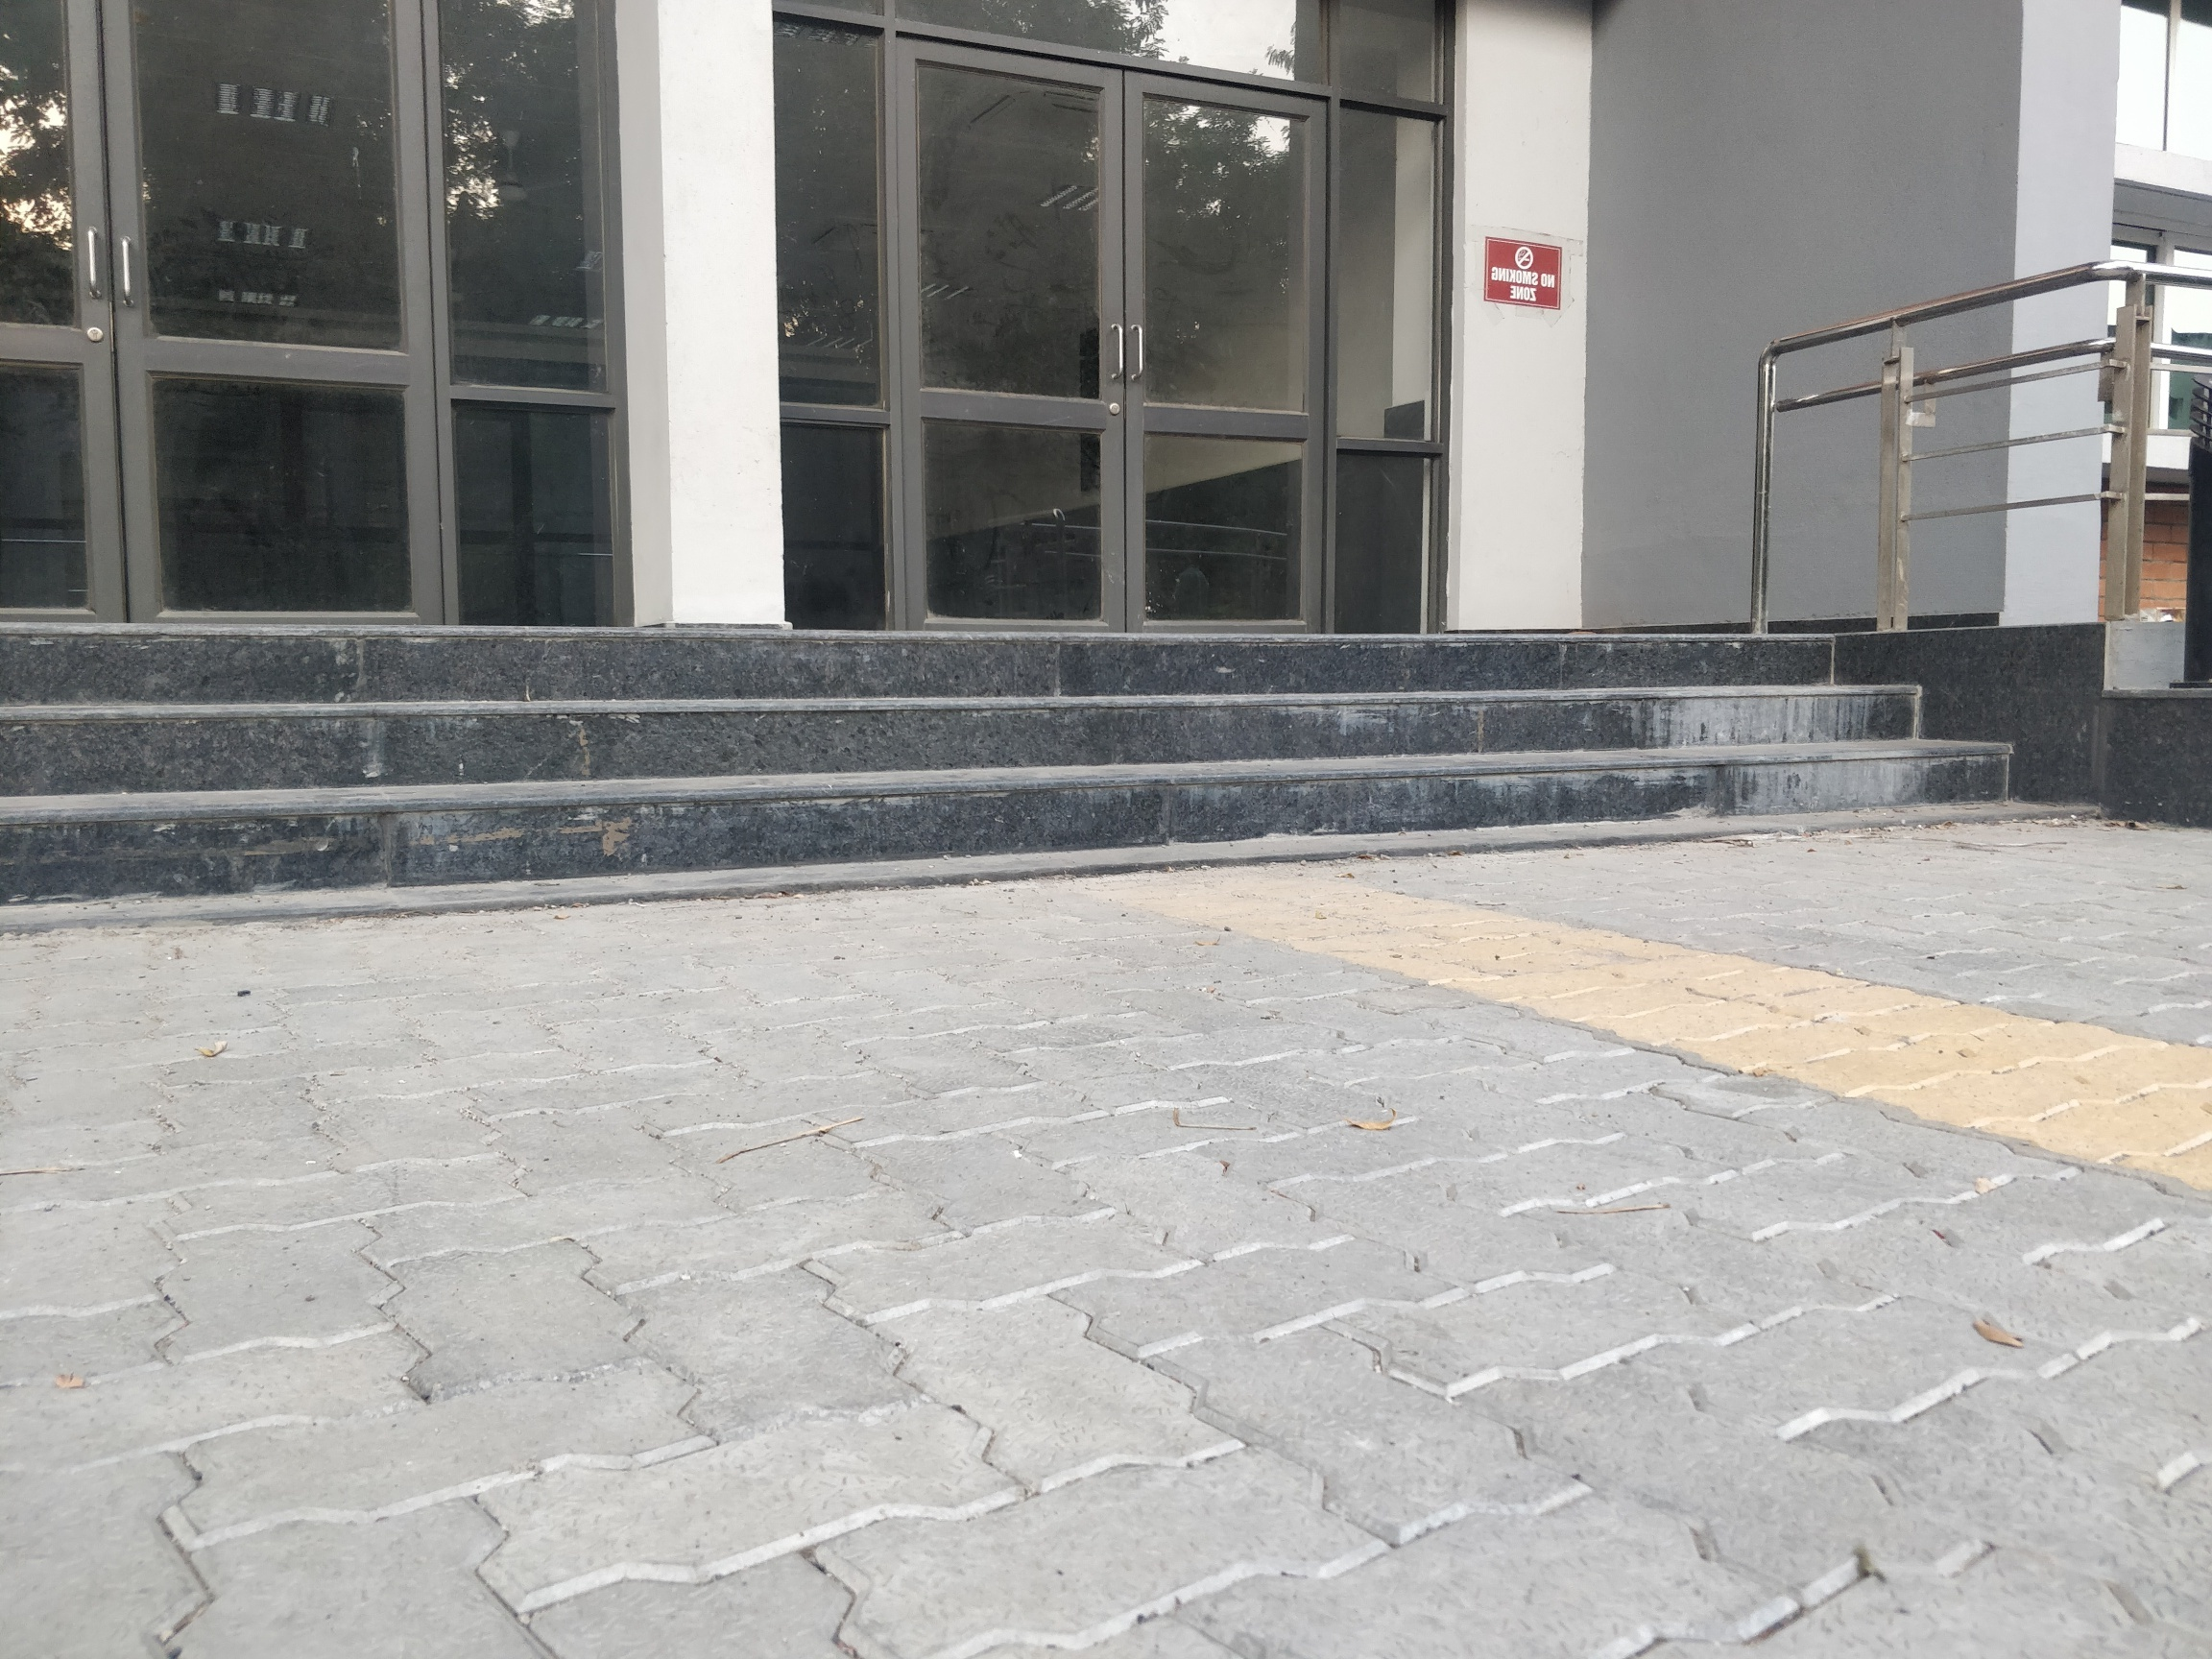stairs_up: (14, 608, 2000, 880)
